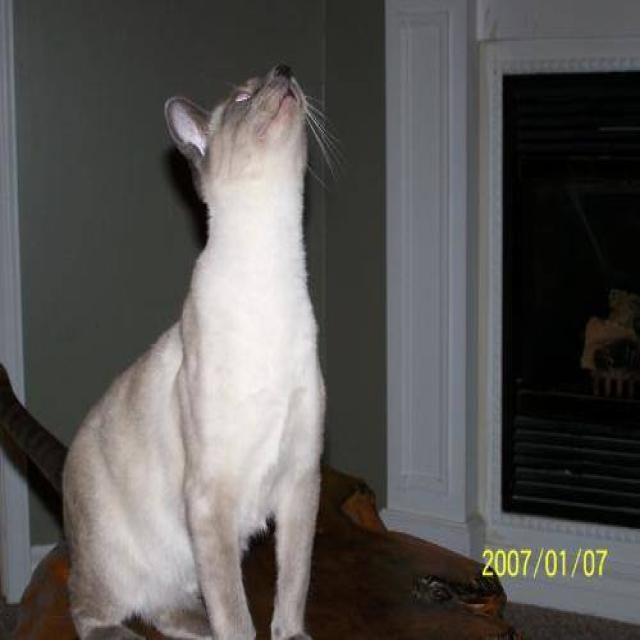cat: (59, 62, 344, 638)
